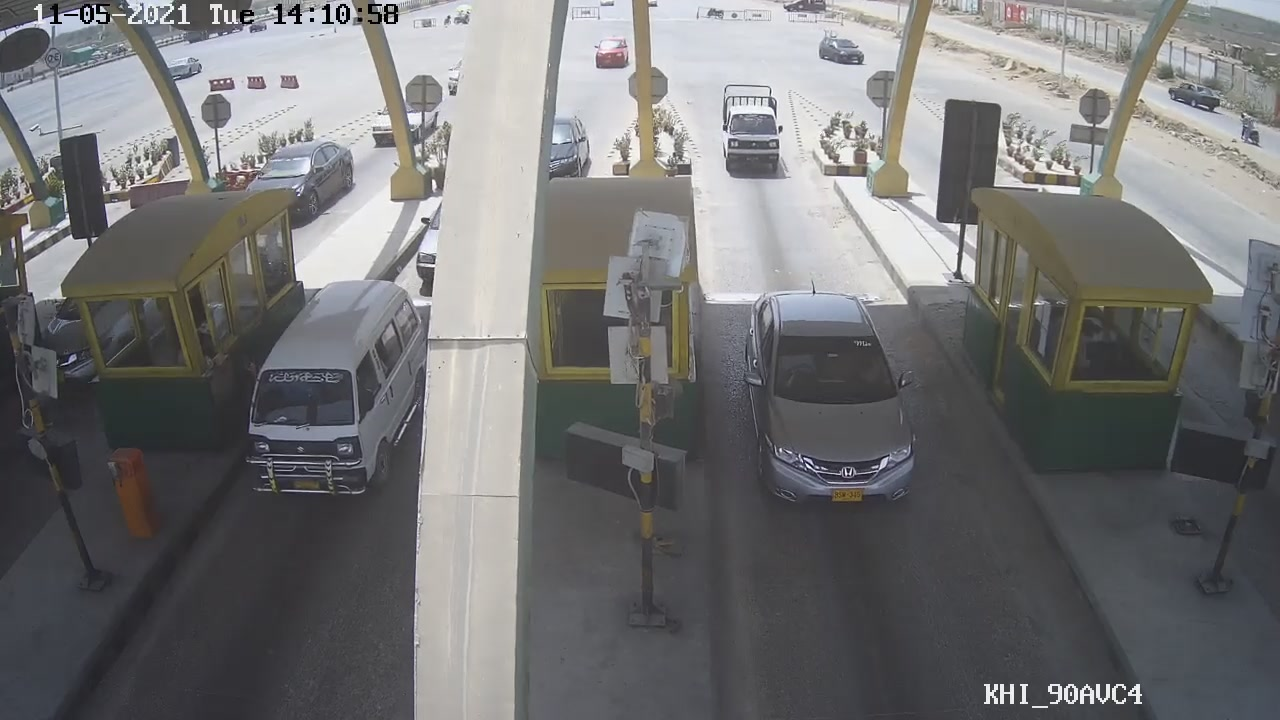F1: (736, 280, 925, 515)
